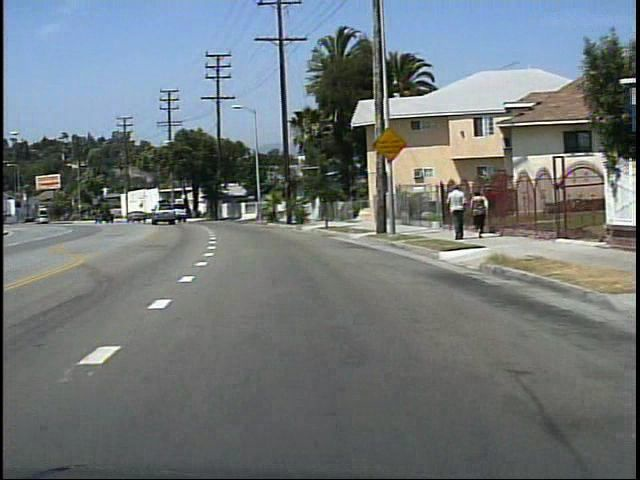person: (465, 188, 490, 242), (442, 181, 464, 242)
